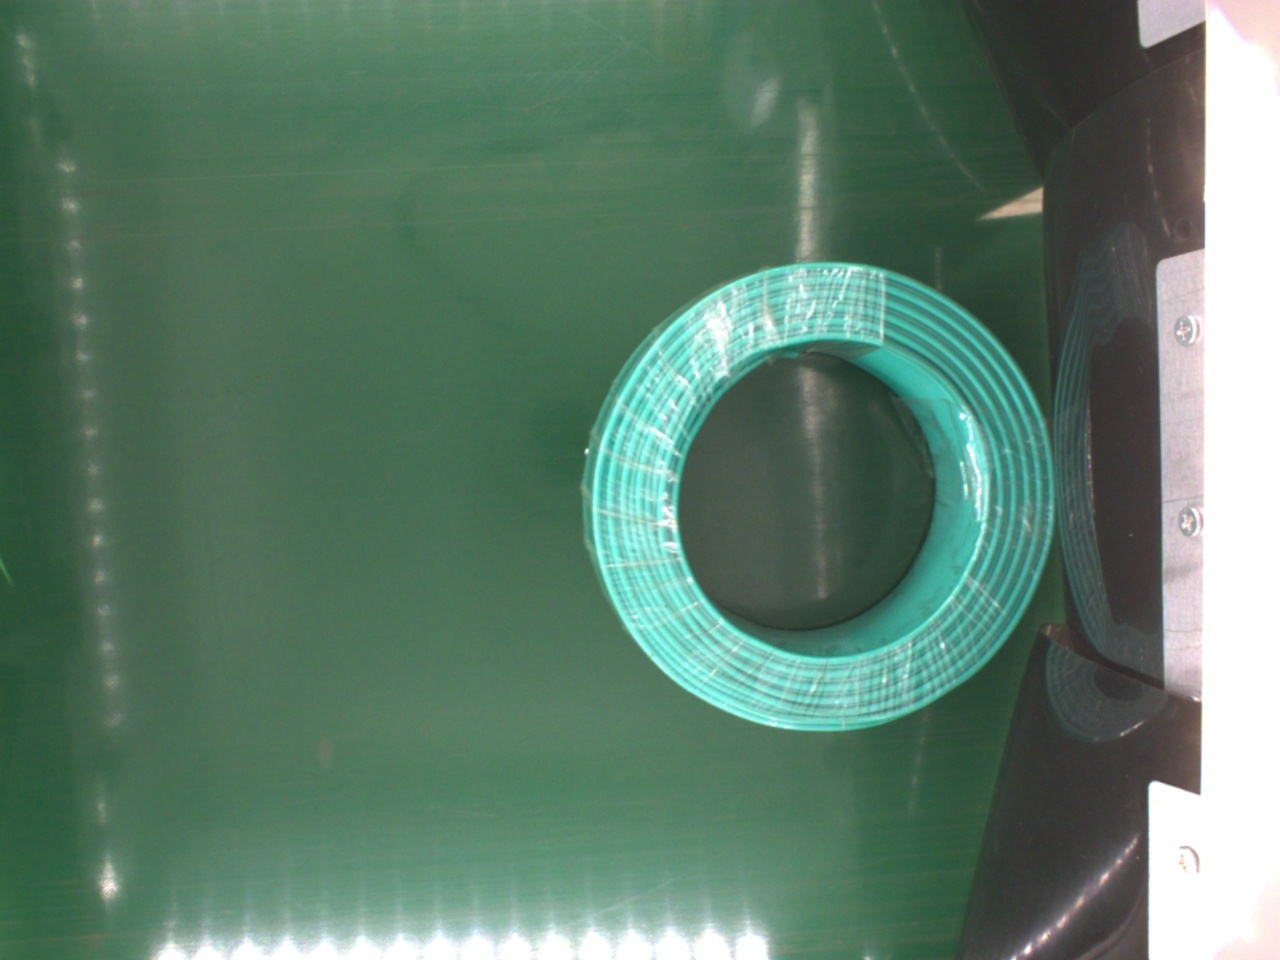green: (581, 260, 1056, 731)
